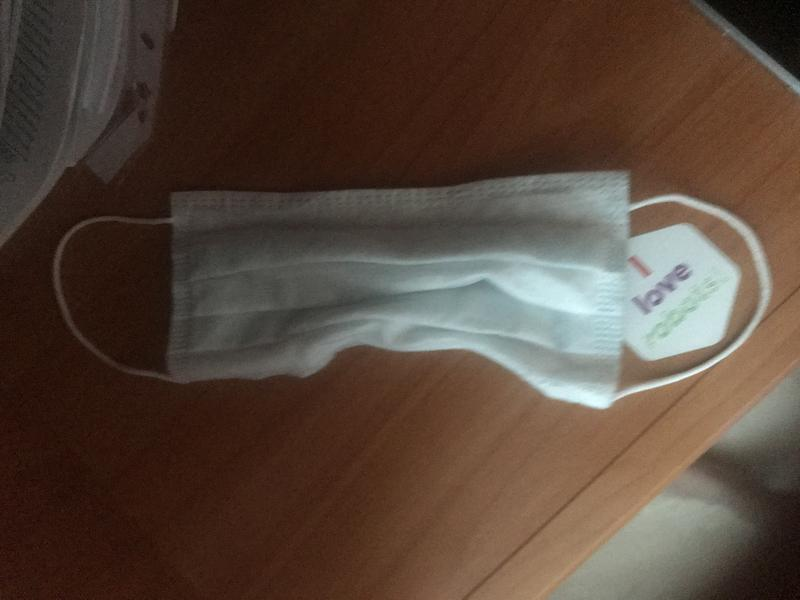medical_mask: (53, 174, 772, 410)
